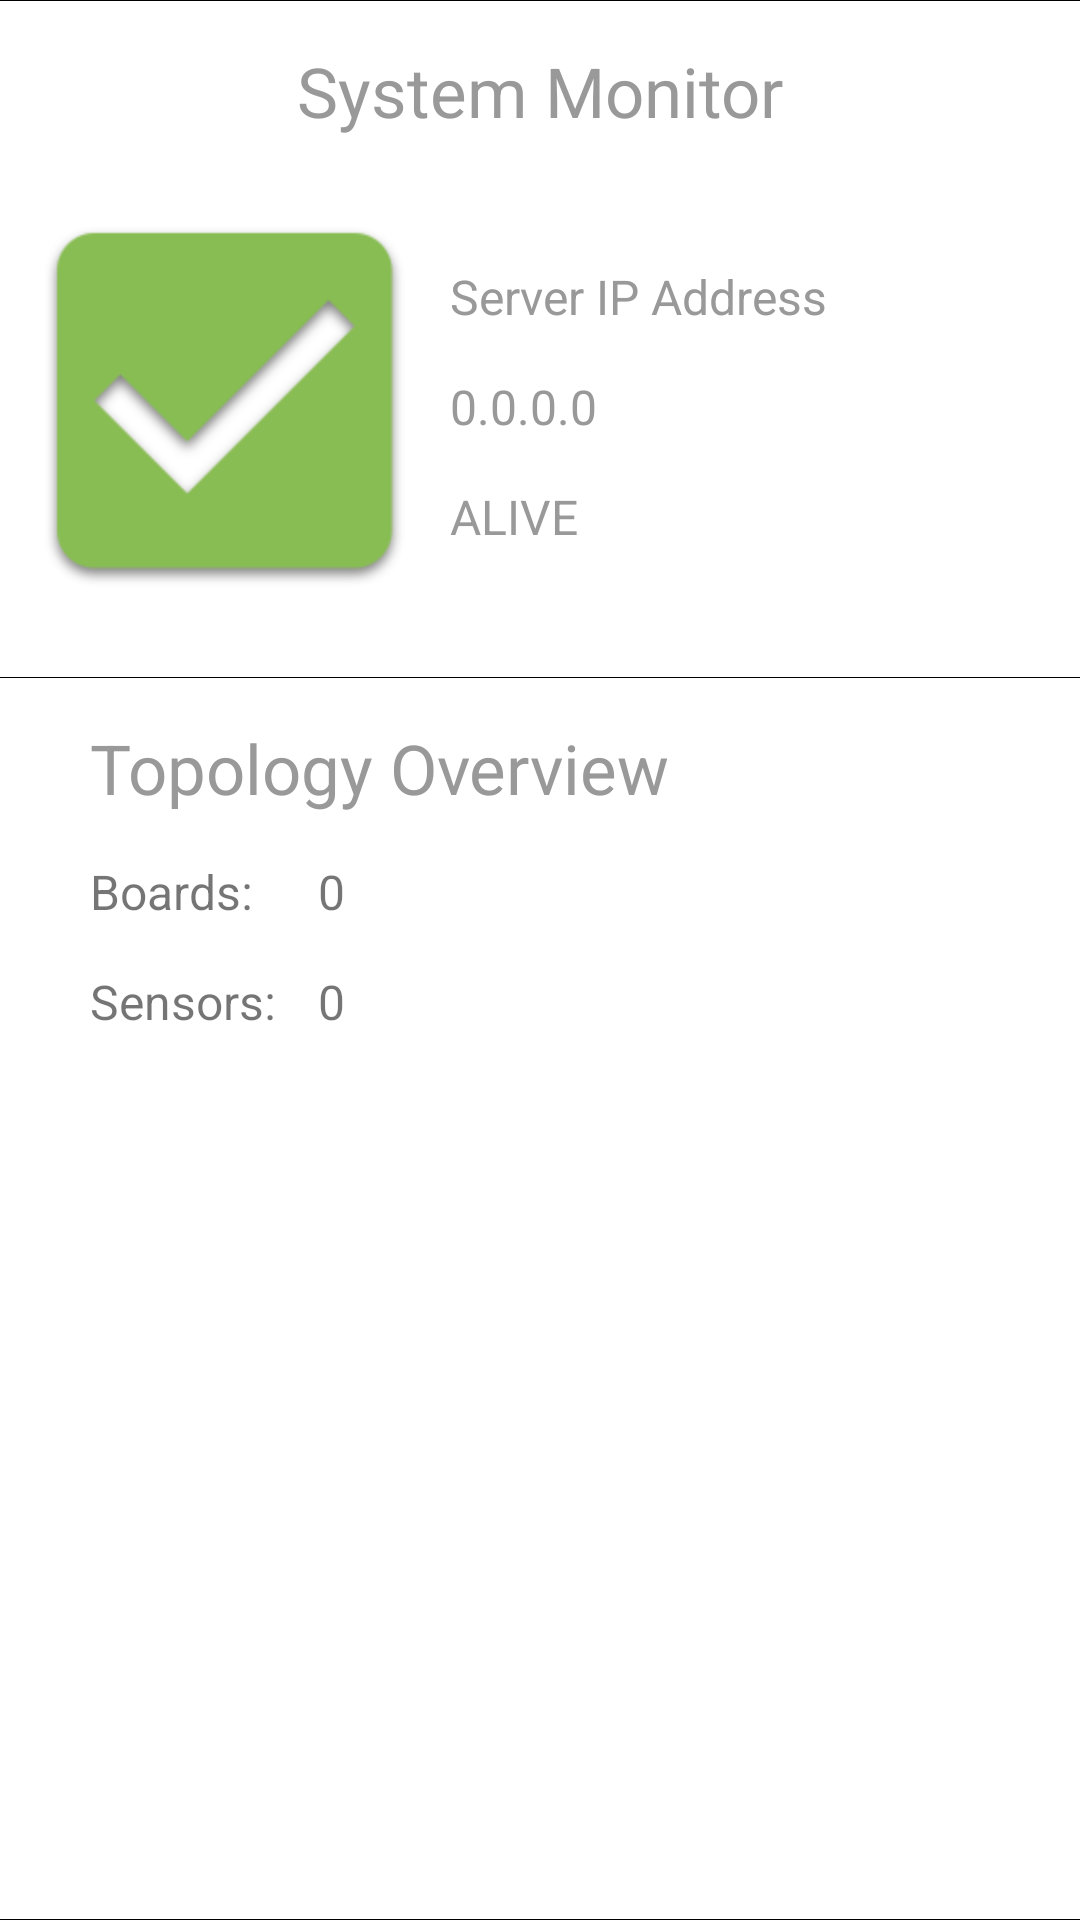

Where to tap for icons on this 1080x1920 app screen, as [x,y]:
check box: [224,405]
